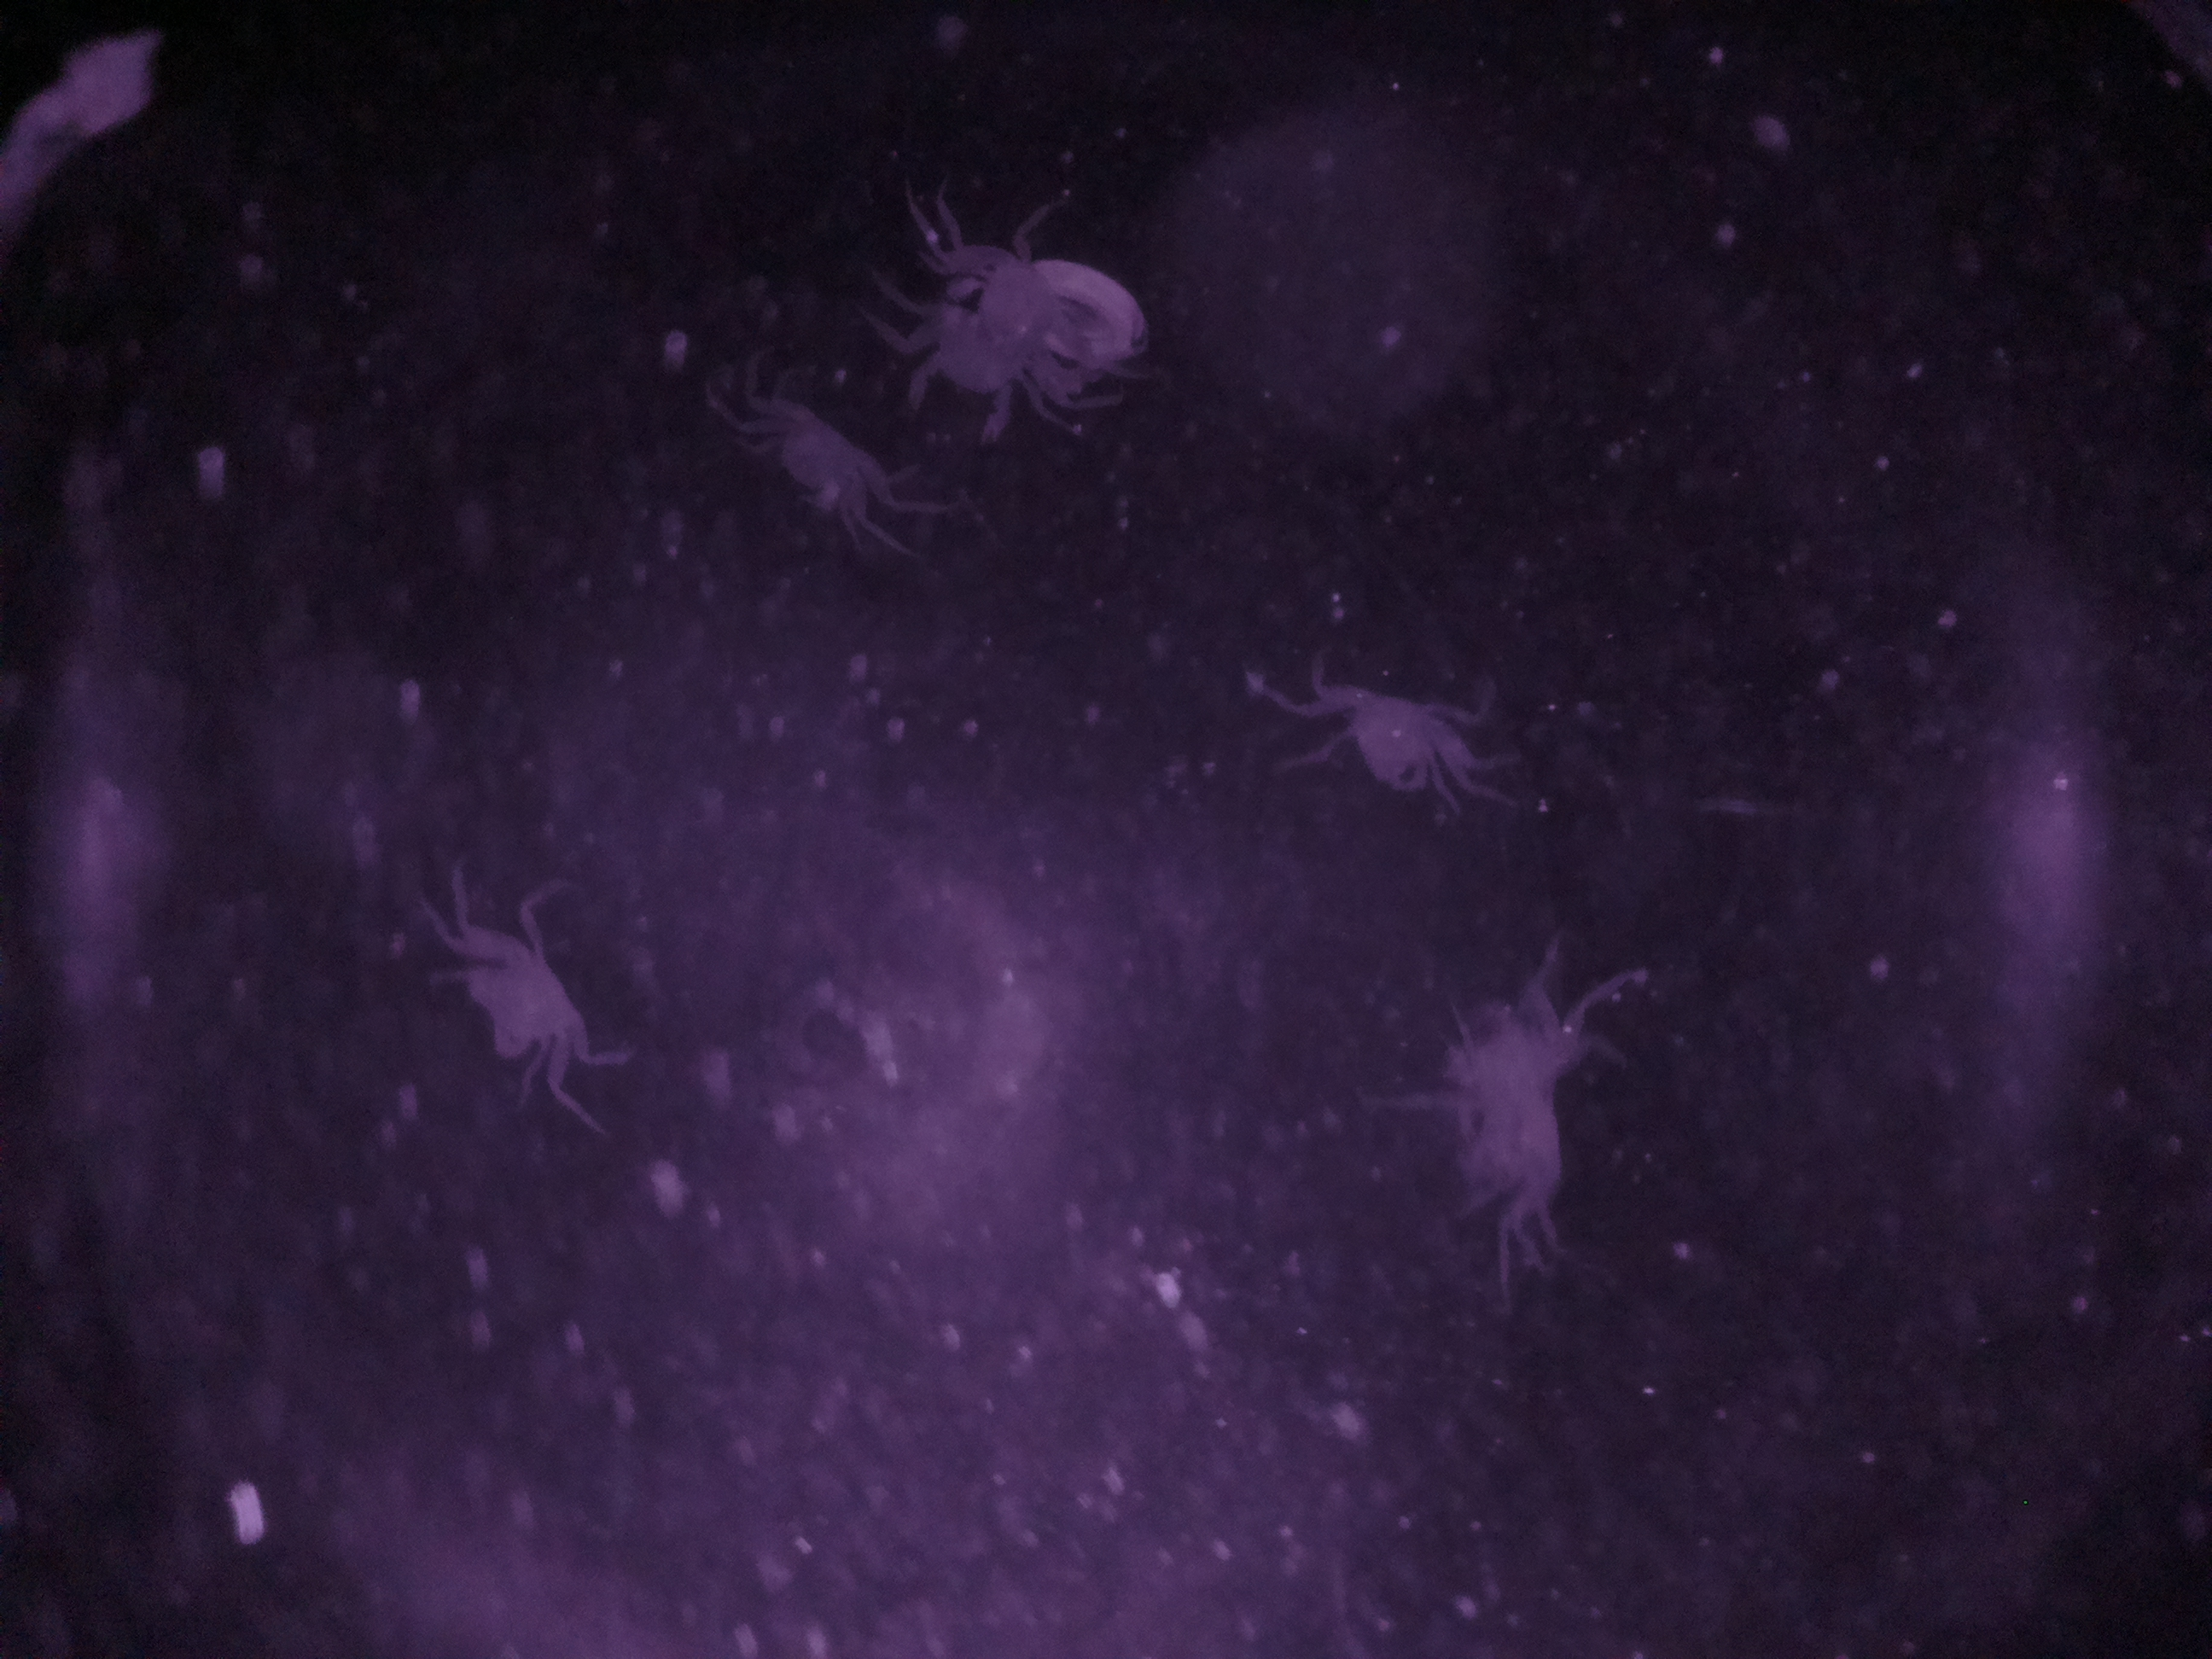Crab: (420, 885, 611, 1094)
